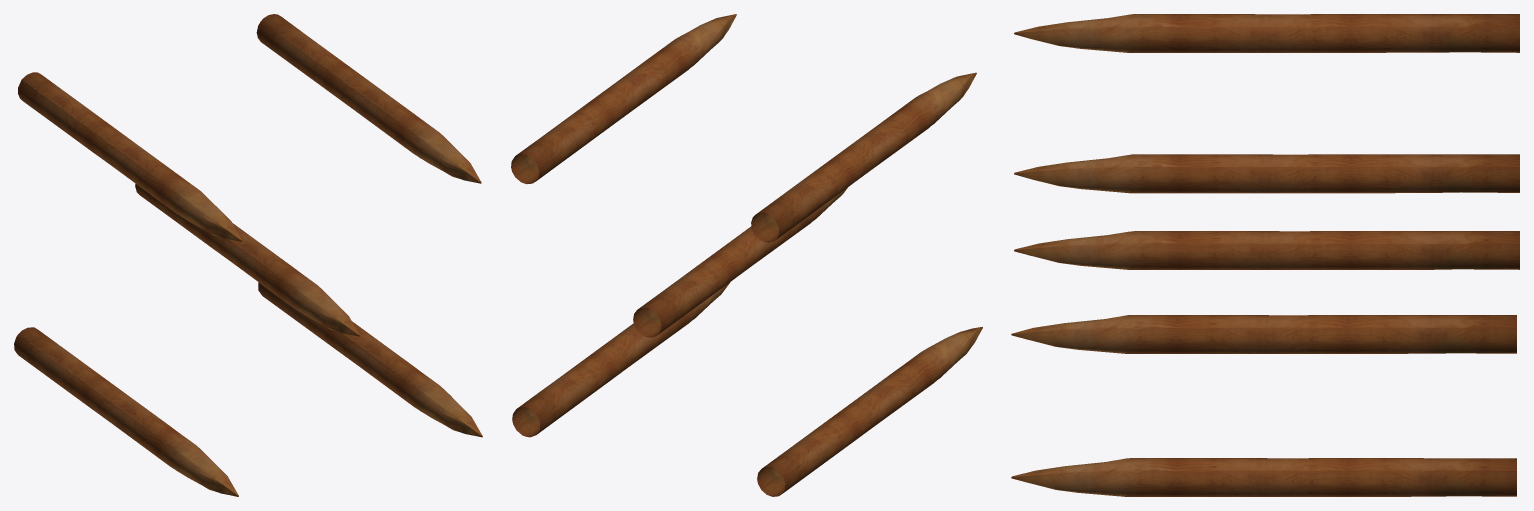
The model's file is WoodSpikes_v2.glb.
3 views of the same model, side by side, from view 1: azimuth 30°, elevation 25°; view 2: azimuth 150°, elevation 25°; view 3: azimuth 270°, elevation 25° (orthographic). The views are drawn at different scales.
Visible parts, largest first — view 1: WoodSpikes; view 2: WoodSpikes; view 3: WoodSpikes.
Part boxes in pixels (x1,y1,x2,y2): WoodSpikes: [14, 14, 482, 496]; WoodSpikes: [511, 14, 982, 496]; WoodSpikes: [1011, 14, 1519, 496].
Size of the model in its own units: 2.23 by 2.21 by 3.01.
Materials: 1 (1 with a texture image).
